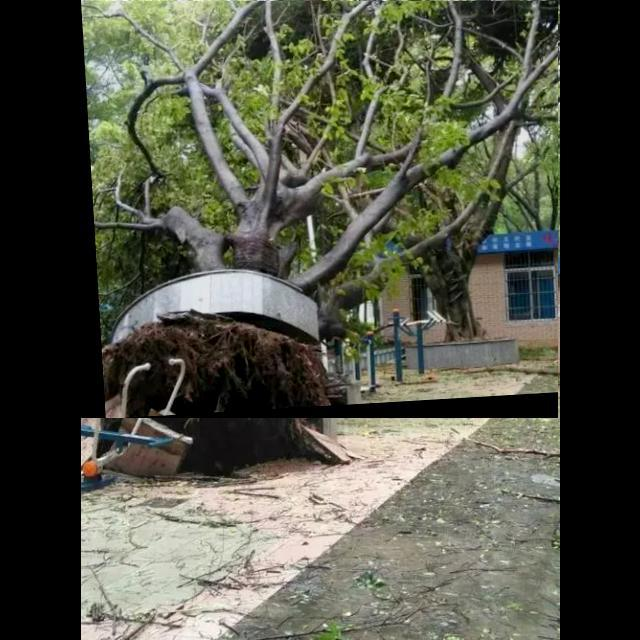fallen_tree: (81, 1, 559, 419)
